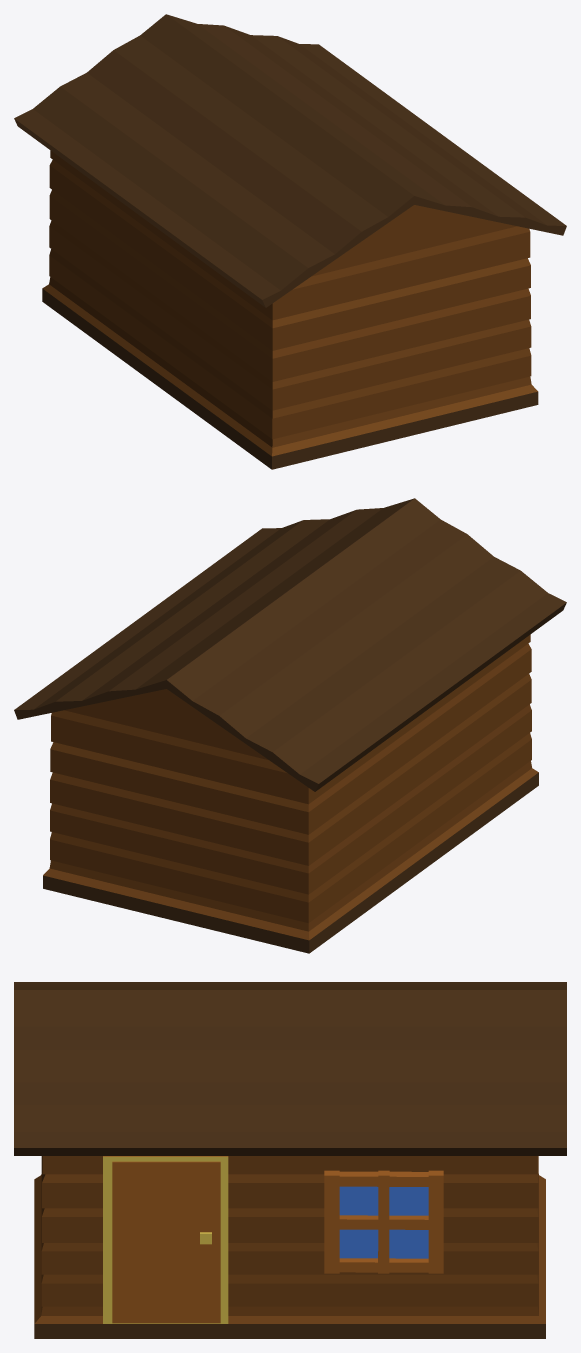
File: THENORMHOUSE.fbx
The picture shows the model from 3 angles, top to bottom: view 1: azimuth 30°, elevation 25°; view 2: azimuth 150°, elevation 25°; view 3: azimuth 270°, elevation 25°; orthographic projection. The views are drawn at different scales.
Parts seen in each view (by area): view 1: Cube.002; view 2: Cube.002; view 3: Cube.002.
Part boxes in pixels (x1,y1,x2,y2): Cube.002: [14, 14, 566, 469]; Cube.002: [14, 498, 566, 953]; Cube.002: [14, 982, 566, 1338].
Size of the model in its own units: 499 by 388 by 704.
